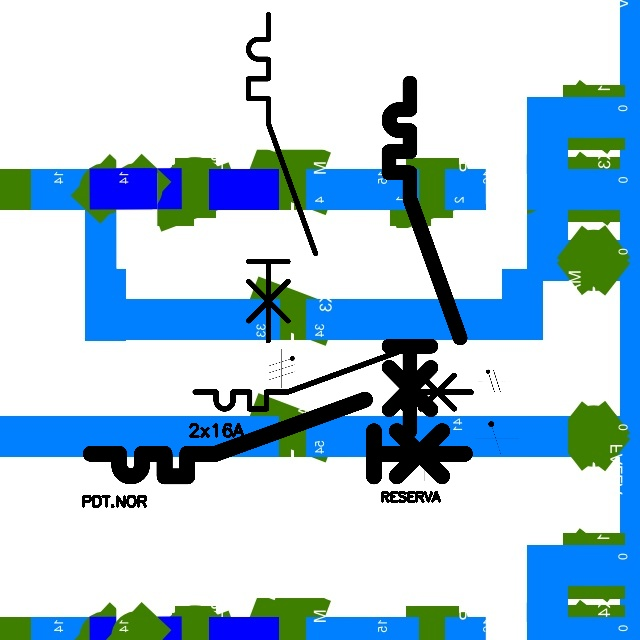interruptor_termomagnetico: (81, 390, 474, 486), (380, 74, 469, 439), (240, 6, 324, 349), (188, 345, 478, 416)
